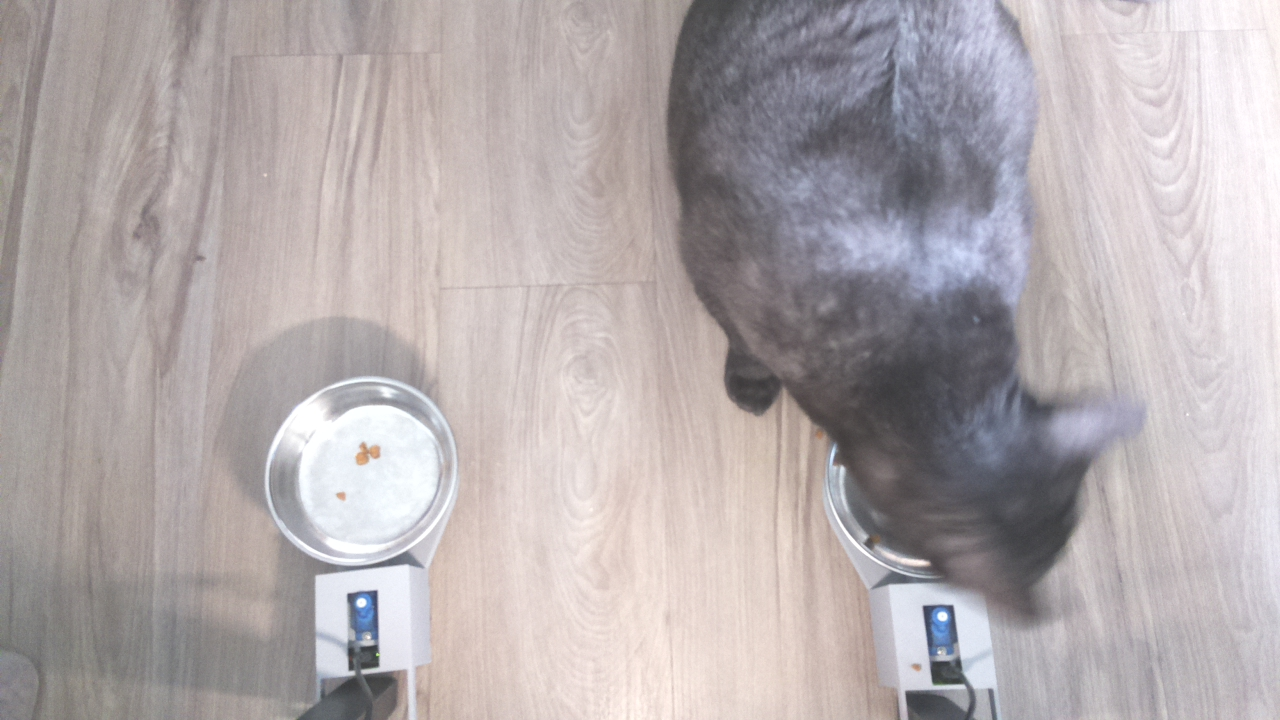open_bowl: (254, 370, 465, 575)
saki_eating: (806, 337, 1157, 637)
